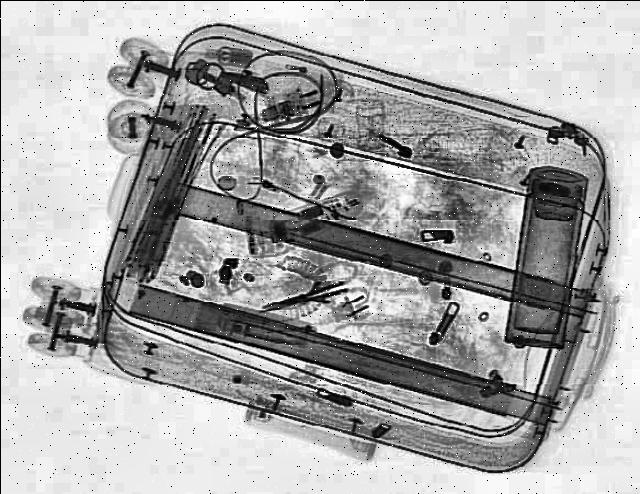Knife: (250, 273, 350, 319)
